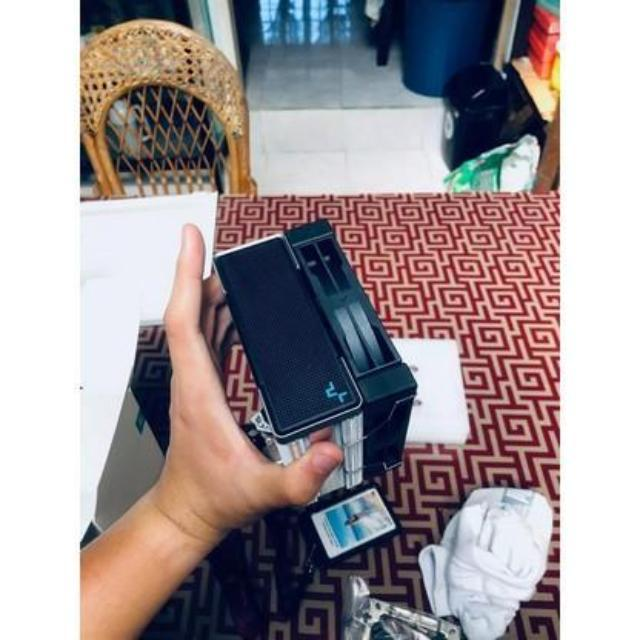CPU_Fan: (206, 221, 420, 550)
